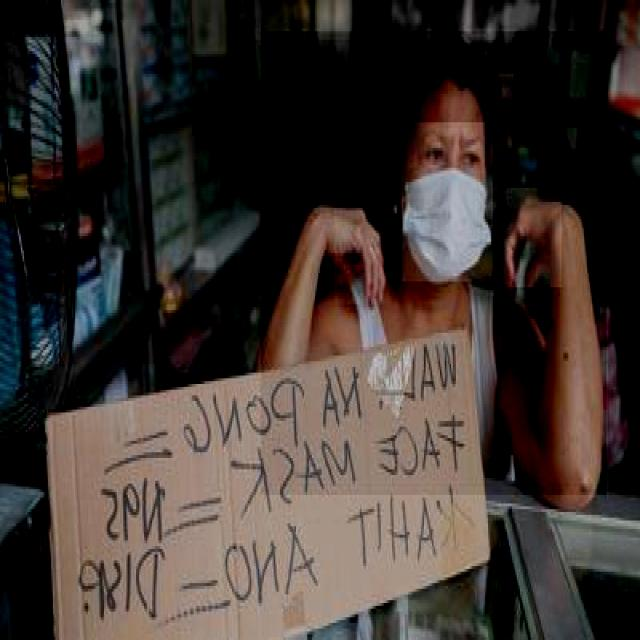face_mask: (402, 122, 492, 282)
hand_noglove: (334, 196, 390, 304), (504, 188, 562, 287)
head_nohelmet: (424, 46, 482, 122)
person: (259, 31, 606, 498)
